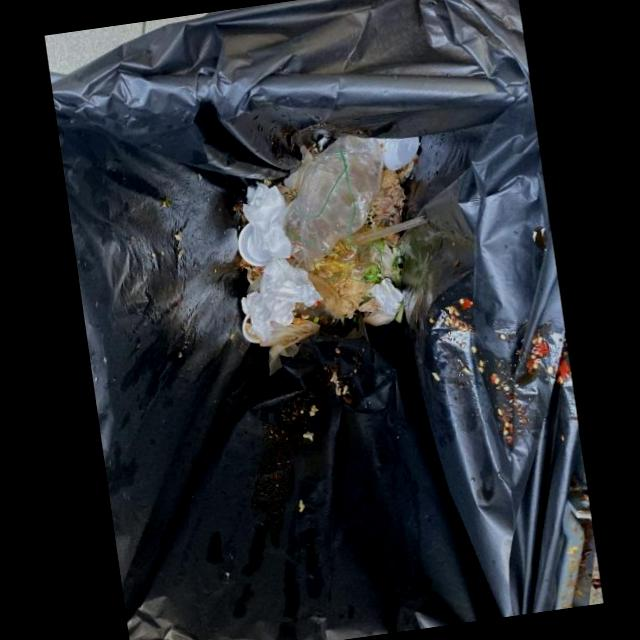giay: (241, 258, 324, 343), (243, 181, 292, 258), (359, 276, 408, 327)
ong_hut_nhua: (352, 215, 429, 245)
tui_ni_long: (283, 133, 385, 270)
